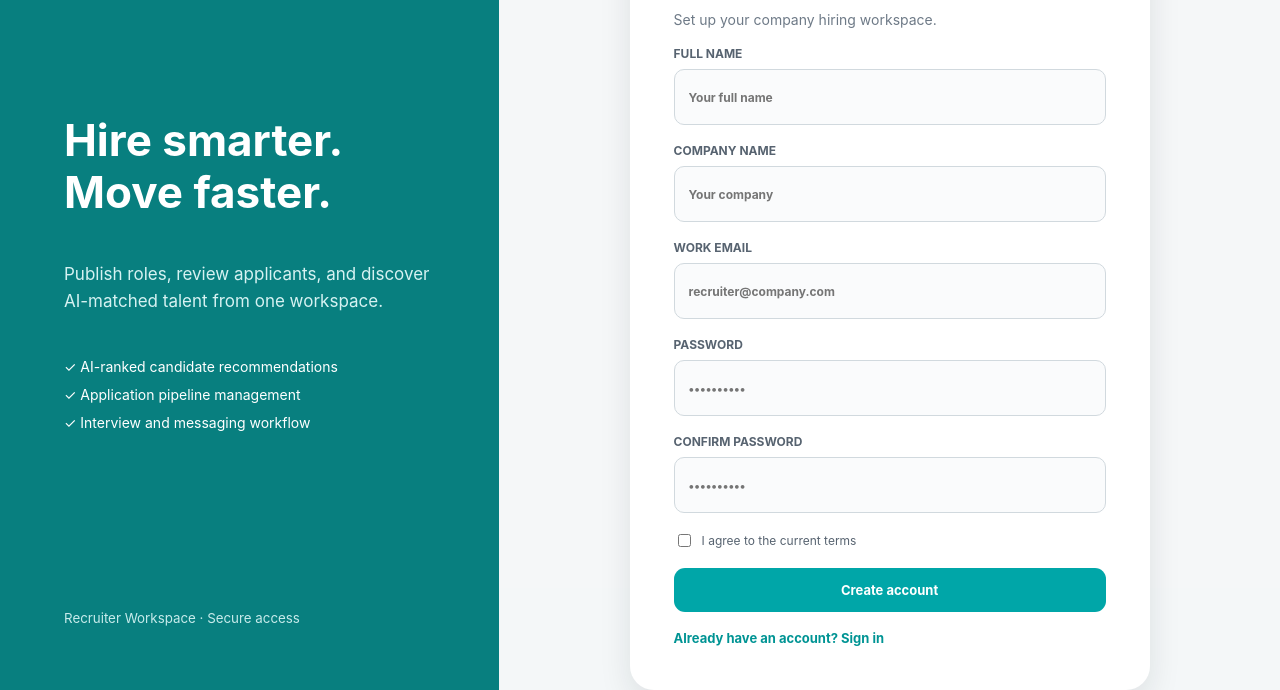
AuthPage › validates recruiter registration fields before writing
(page scrolled)
Click the button "Create account" at (890, 590), box top-left (674, 568), bottom-right (1106, 612)
(page scrolled)
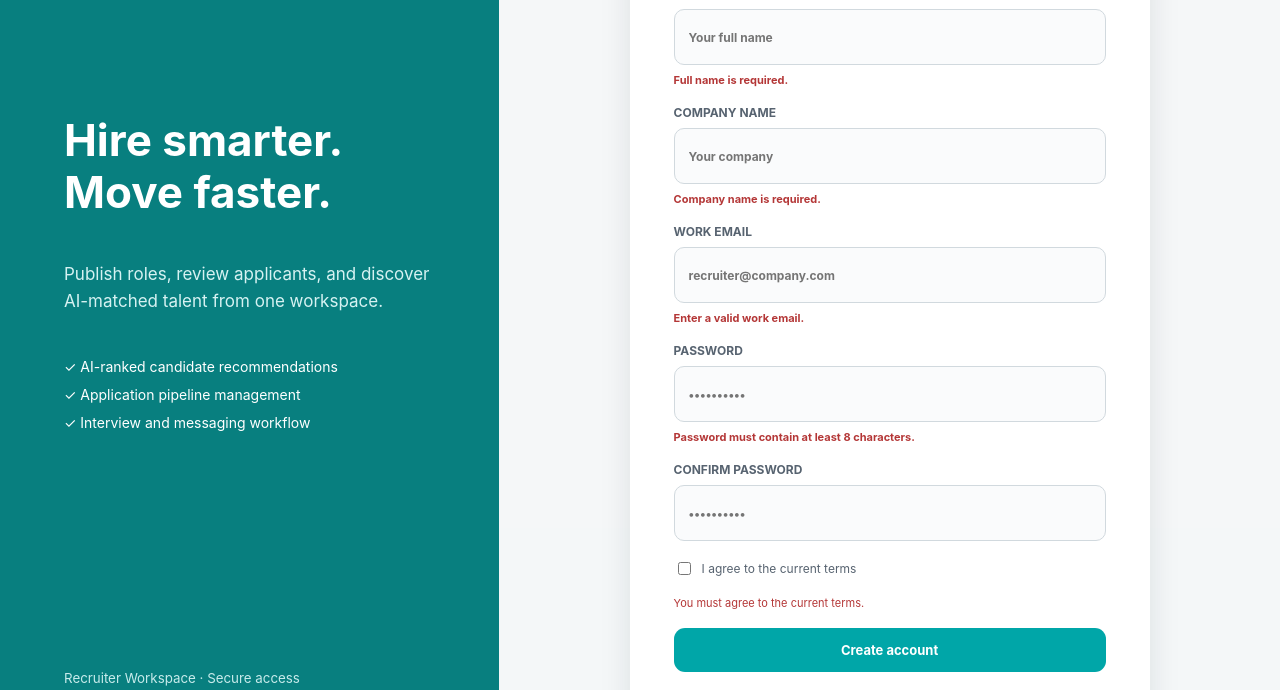
Result: the text "Full name is required." is shown at top-left (674, 73), bottom-right (788, 87)
Result: the text "Company name is required." is shown at top-left (674, 192), bottom-right (821, 206)
Result: the text "Enter a valid work email." is shown at top-left (674, 311), bottom-right (804, 325)
